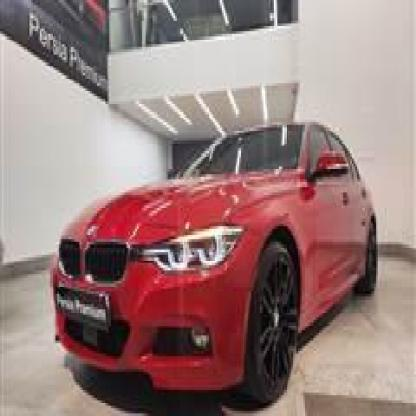Car: (56, 123, 383, 414)
